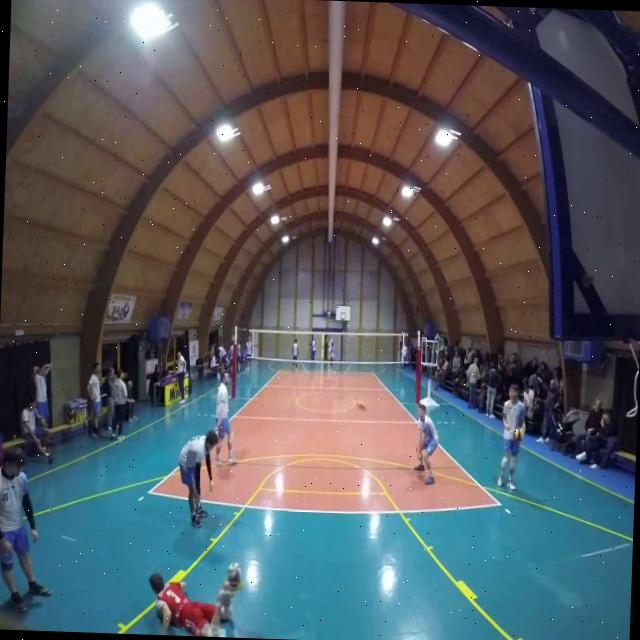Volleyball: (225, 561, 242, 590), (512, 428, 524, 443)
